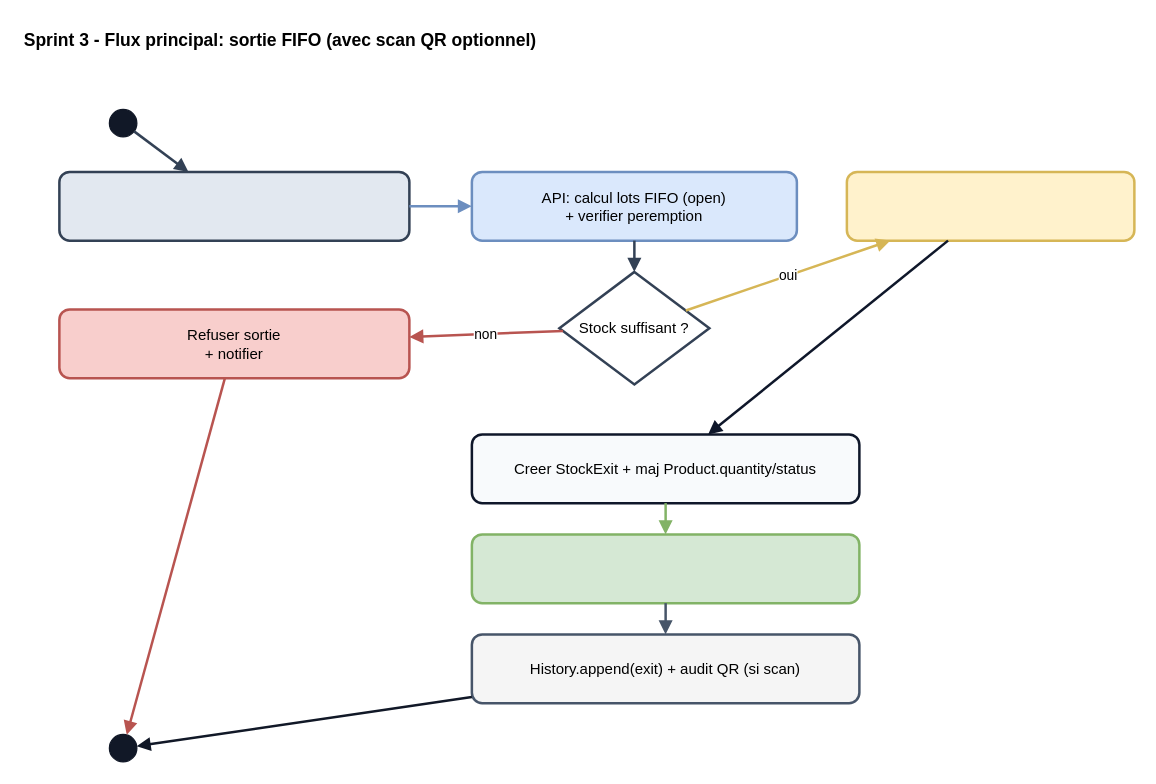
Image size: 1156x784. Some labels were removed from this diagram. Here are the shapes that lost their labels. From the top down, the centre of each, then its label:
At point 234,205: "Magasinier: choisir produit + quantite".
At point 990,205: "Consommer lots FIFO (StockLot.consume)".
At point 665,568: "Lier a Request (option) Request.attachStockExit + served".
